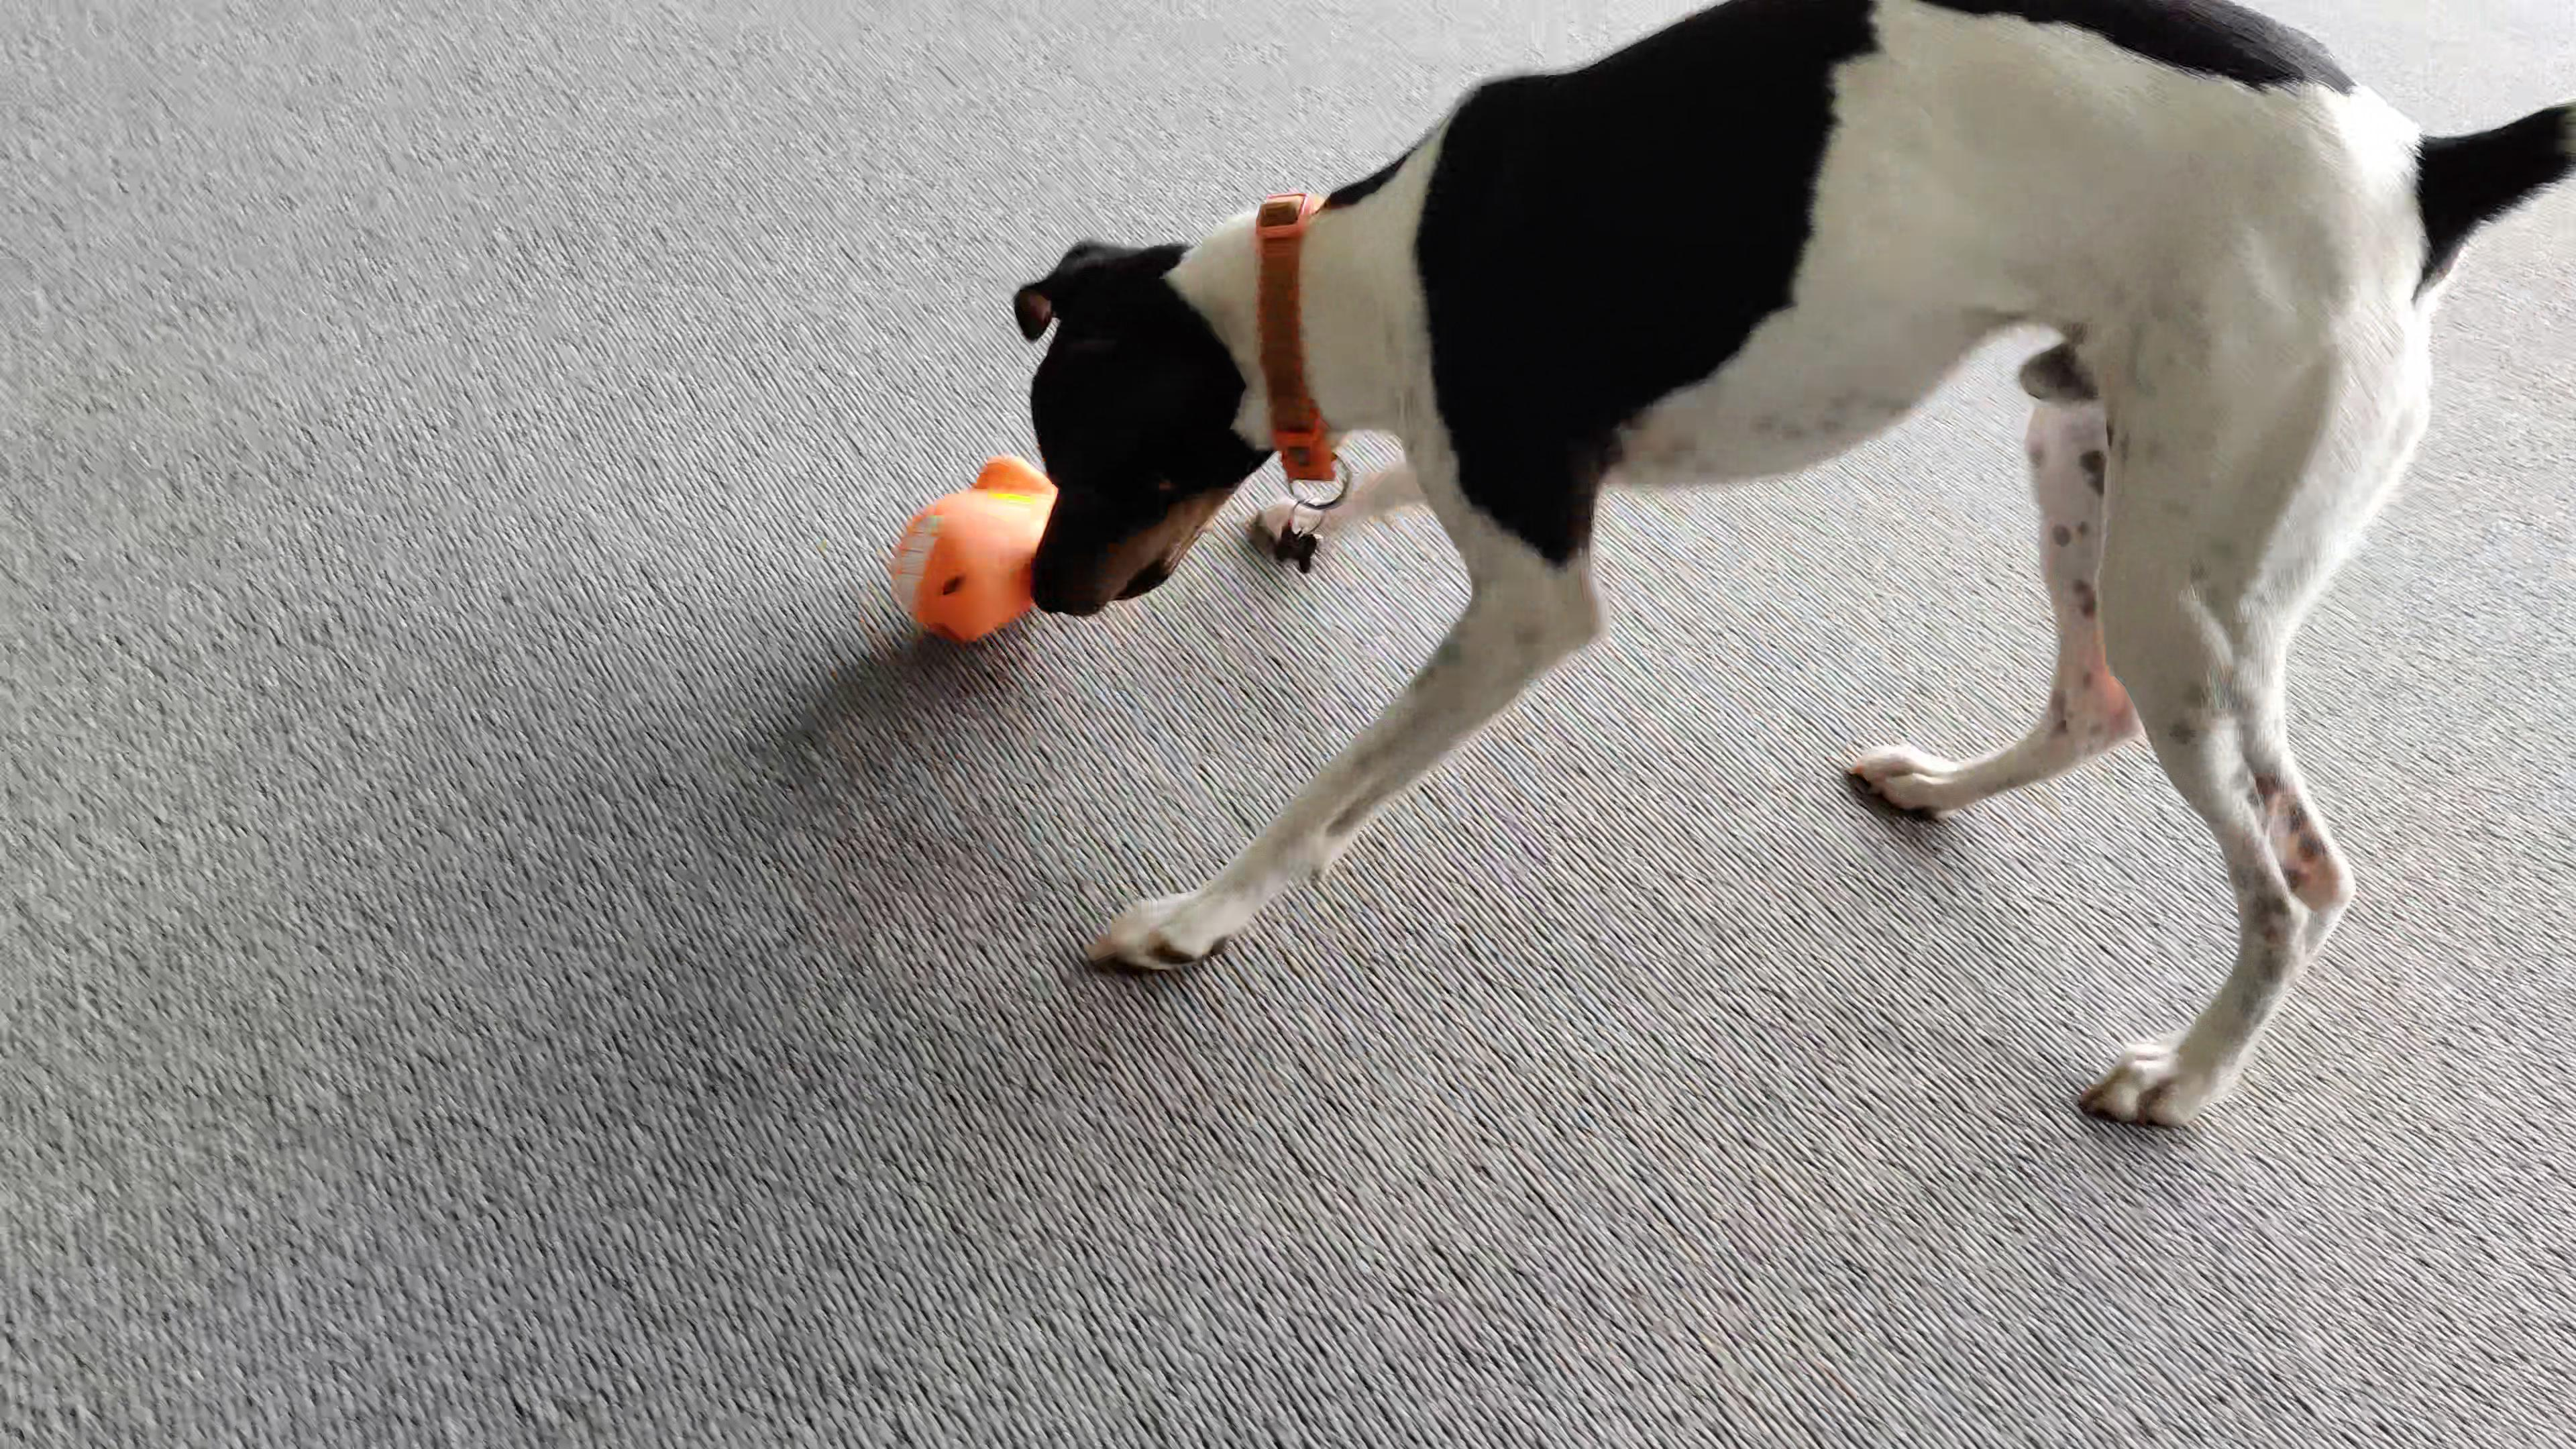Dog: (977, 0, 2576, 1166)
